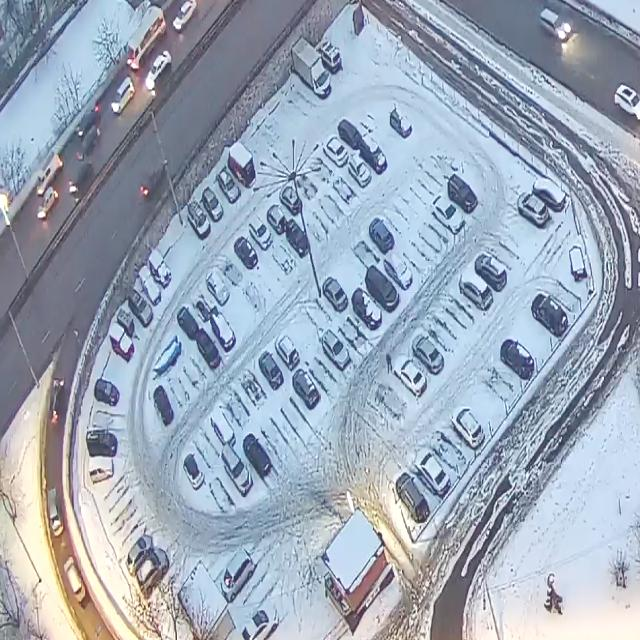car: (125, 6, 167, 77), (290, 36, 333, 101), (136, 540, 170, 601), (220, 546, 255, 605), (414, 447, 451, 501), (394, 471, 430, 526), (530, 290, 569, 340), (450, 400, 486, 452), (220, 443, 254, 497), (239, 596, 280, 640), (364, 265, 400, 314), (498, 337, 535, 382), (393, 352, 428, 398), (138, 153, 170, 203), (458, 269, 494, 313), (411, 331, 445, 376), (125, 529, 154, 581), (242, 431, 272, 481), (432, 193, 465, 237), (351, 287, 383, 331), (144, 47, 172, 97), (228, 141, 256, 190), (35, 148, 63, 197), (321, 328, 352, 372), (473, 252, 507, 292), (516, 189, 550, 229), (384, 247, 414, 292), (209, 307, 237, 355), (292, 366, 321, 412), (358, 133, 389, 176), (532, 176, 567, 214), (110, 70, 135, 122), (62, 553, 86, 606), (448, 173, 478, 215), (210, 405, 236, 453), (68, 155, 94, 203), (256, 349, 284, 393), (539, 8, 572, 45), (194, 327, 221, 372), (46, 374, 67, 431), (186, 197, 212, 243), (126, 288, 154, 330), (314, 35, 342, 77), (284, 217, 311, 260), (180, 448, 206, 492), (274, 331, 301, 373), (247, 212, 274, 254), (368, 215, 396, 255), (321, 274, 349, 314), (613, 81, 640, 122), (44, 485, 64, 540), (152, 382, 175, 429), (75, 101, 102, 141), (109, 322, 135, 363), (176, 304, 202, 344), (138, 265, 162, 308), (322, 132, 349, 170), (203, 269, 230, 307), (87, 451, 114, 489), (216, 165, 241, 206), (337, 116, 365, 152), (148, 248, 172, 290), (347, 150, 372, 190), (85, 428, 118, 458), (232, 234, 258, 272), (201, 186, 225, 226), (36, 184, 58, 227), (172, 0, 198, 35), (389, 105, 414, 140), (278, 182, 303, 216), (265, 202, 288, 238), (93, 378, 120, 408)
